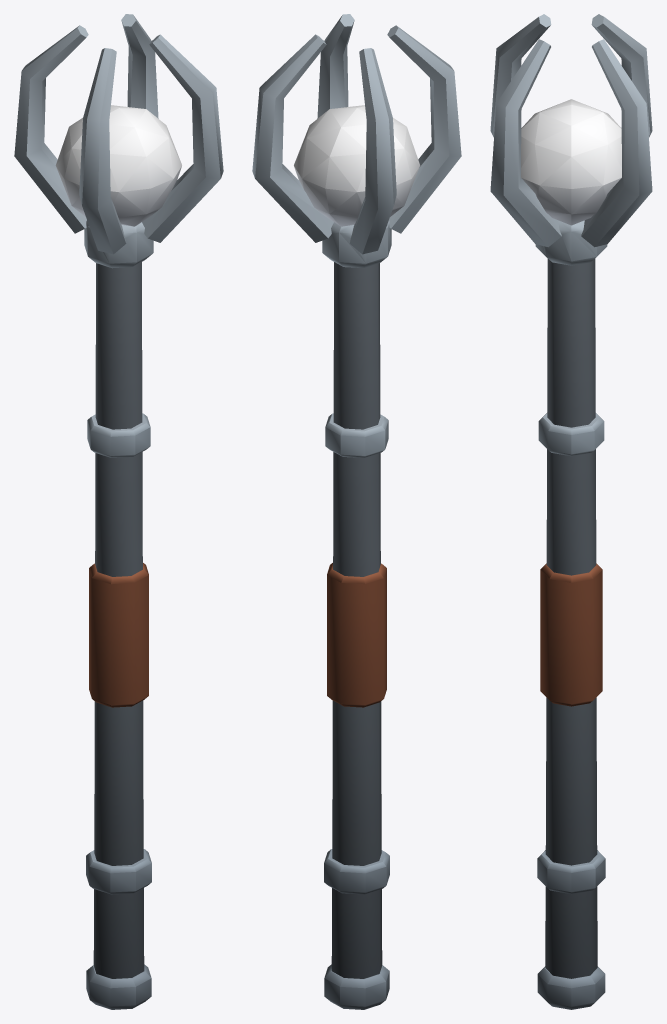
The model's file is staff_iron.glb.
3 views of the same model, side by side, from view 1: azimuth 30°, elevation 25°; view 2: azimuth 150°, elevation 25°; view 3: azimuth 270°, elevation 25° (orthographic).
Parts seen in each view (by area): view 1: Item; view 2: Item; view 3: Item.
Boxes of the visible parts, left/top/right/bottom form: Item: left=14, top=14, right=223, bottom=1009; Item: left=252, top=14, right=461, bottom=1009; Item: left=490, top=14, right=652, bottom=1009.
Size of the model in its own units: 0.3876 by 2.53 by 0.3828.
3 materials, 3 textured.
